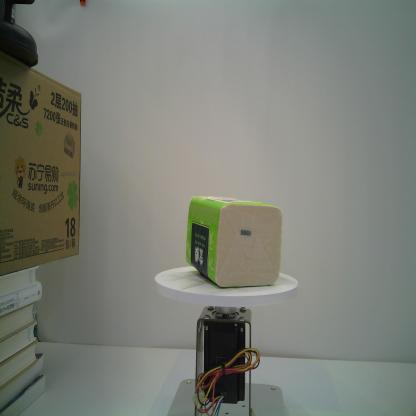Tissue: (181, 192, 284, 290)
